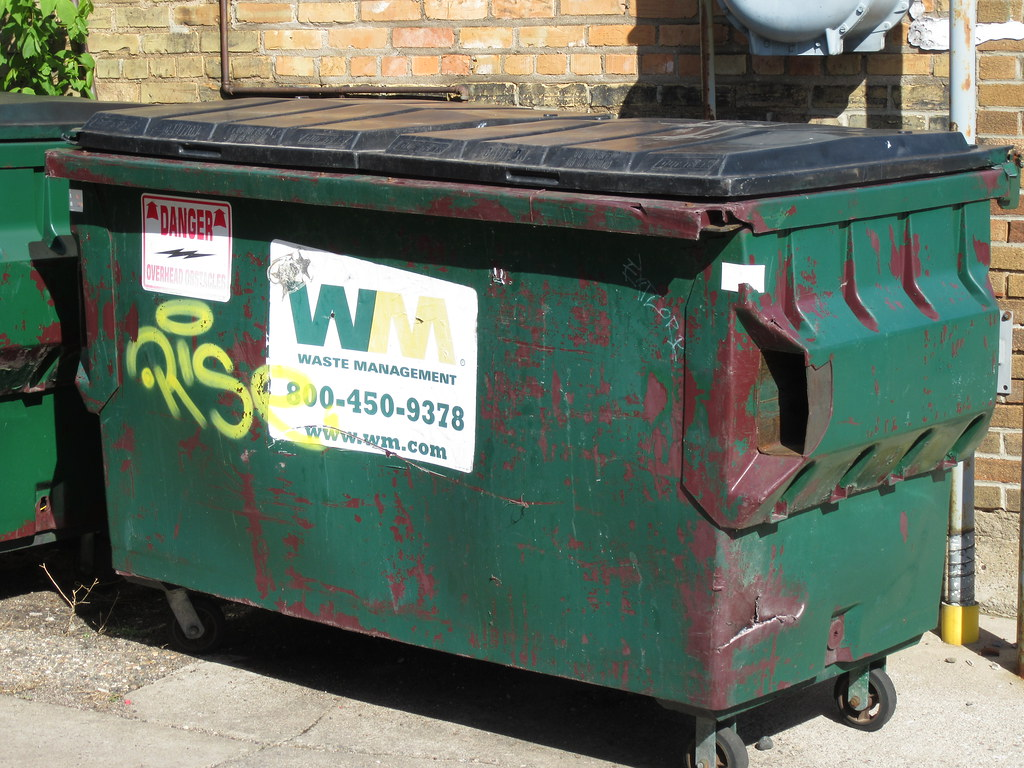Dumpster: (38, 76, 1007, 758)
